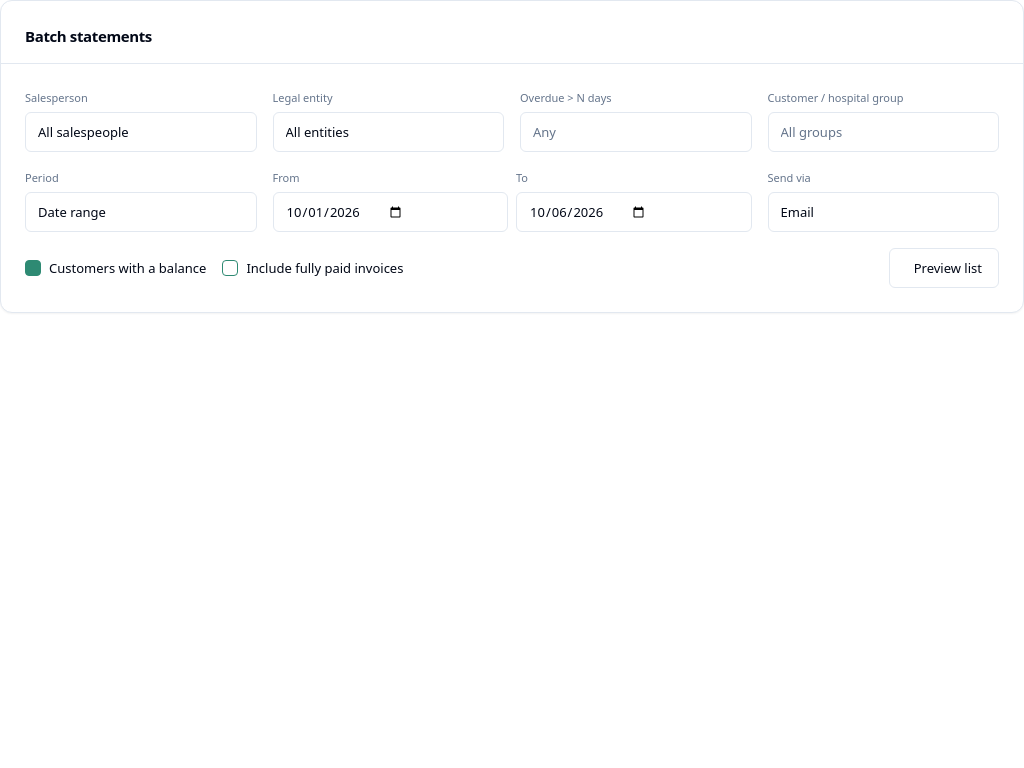
Scenario: #1018 — BatchStatementPanel period › rejects To < From: shows the error and disables preview and send
Click the button "Preview list".
click(944, 268)  # box [889,248,999,288]
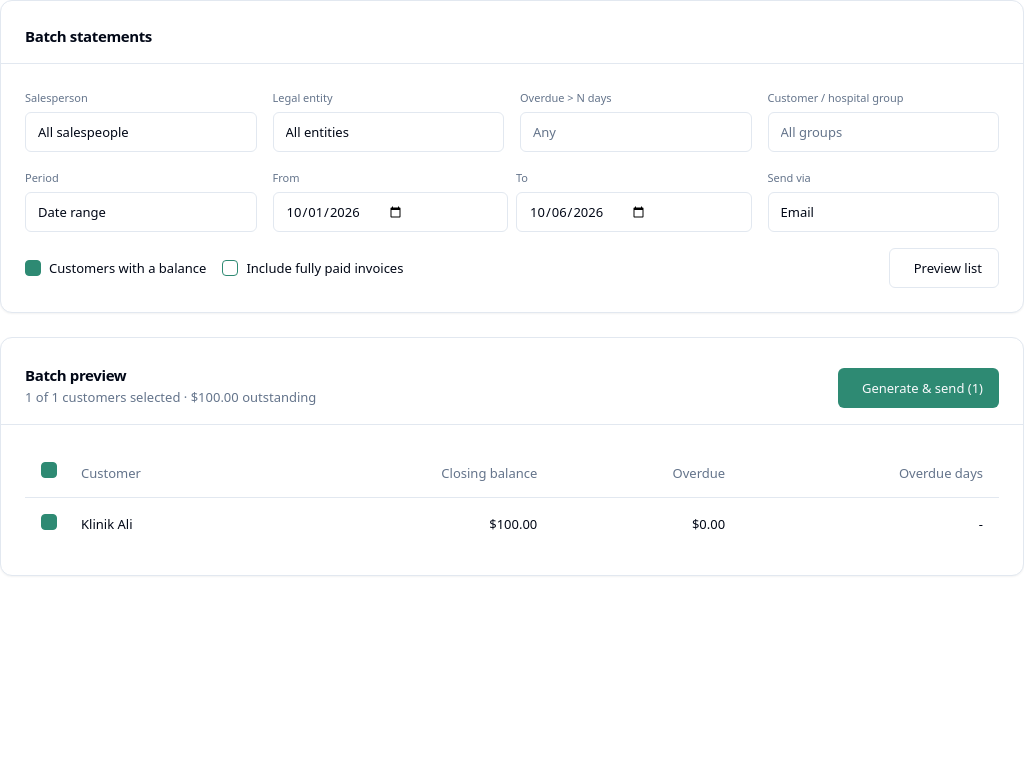
Result: the button "Generate & send (1)" is enabled at [838,368,999,408]
Type "2026-09-15" into the date field labelled "To".
click(634, 212); type("2026-09-15")  # box [516,192,752,232]
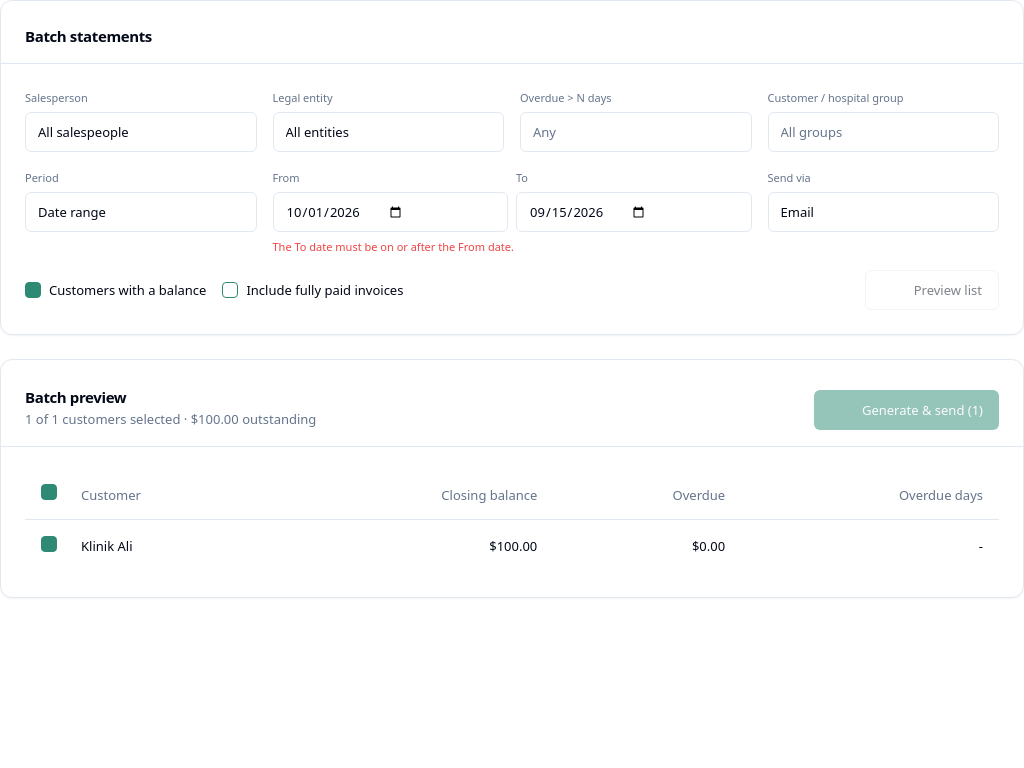
Result: the text "The To date must be on or after the From date." is shown at [272,239,514,254]
Result: the button "Generate & send (1)" is disabled at [814,390,999,430]
Result: the button "Preview list" is disabled at [865,270,999,310]
